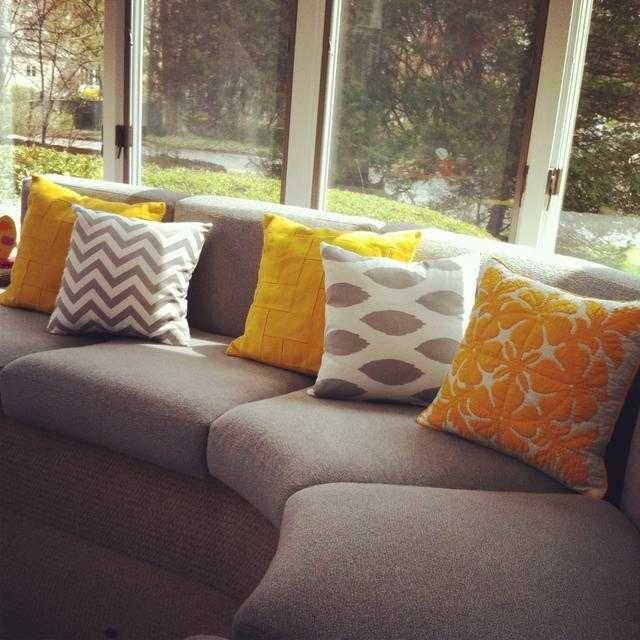pillow: (415, 252, 639, 500), (224, 211, 422, 377), (306, 240, 482, 408)
